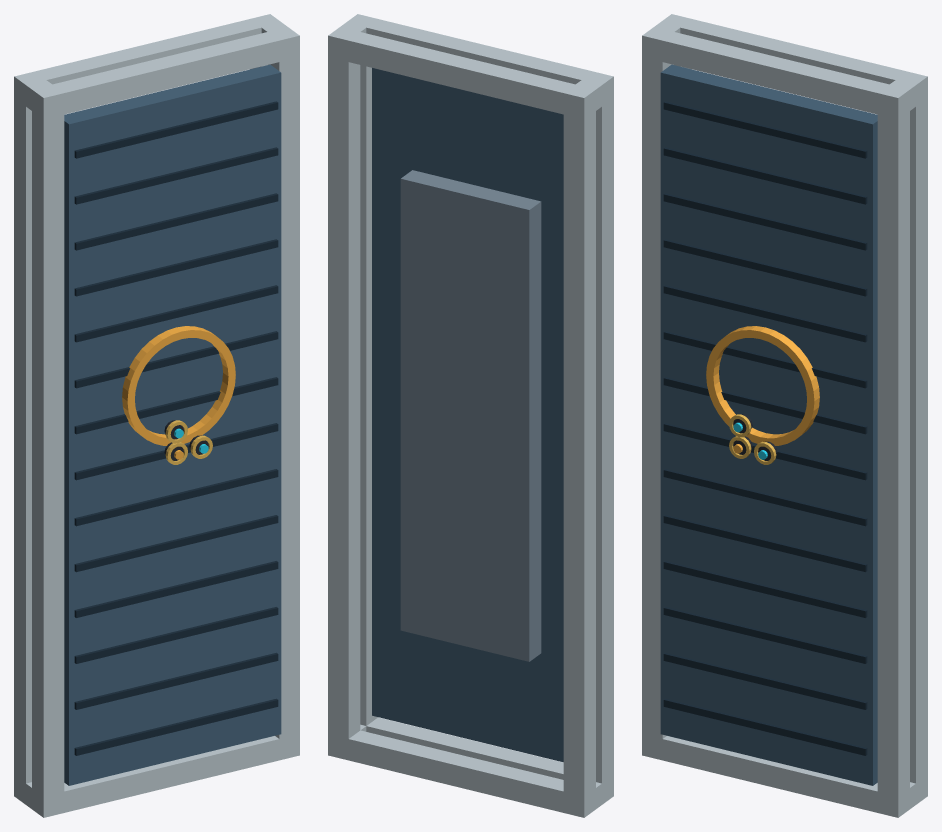
Rendered from 03_L82_RFSealedChamberDoor.fbx.
3 views of the same model, side by side, from view 1: azimuth 30°, elevation 25°; view 2: azimuth 150°, elevation 25°; view 3: azimuth 330°, elevation 25° (orthographic).
Parts seen in each view (by area): view 1: RFSealedChamberDoor; view 2: RFSealedChamberDoor, RFSealedChamberDoor_Part_0028; view 3: RFSealedChamberDoor.
Part boxes in pixels (x1,y1,x2,y2): RFSealedChamberDoor: [14, 14, 299, 817]; RFSealedChamberDoor: [328, 14, 613, 817]; RFSealedChamberDoor_Part_0028: [400, 170, 541, 661]; RFSealedChamberDoor: [642, 14, 927, 817].
Bounding box in the file's own units: 175 × 470 × 59.25.
